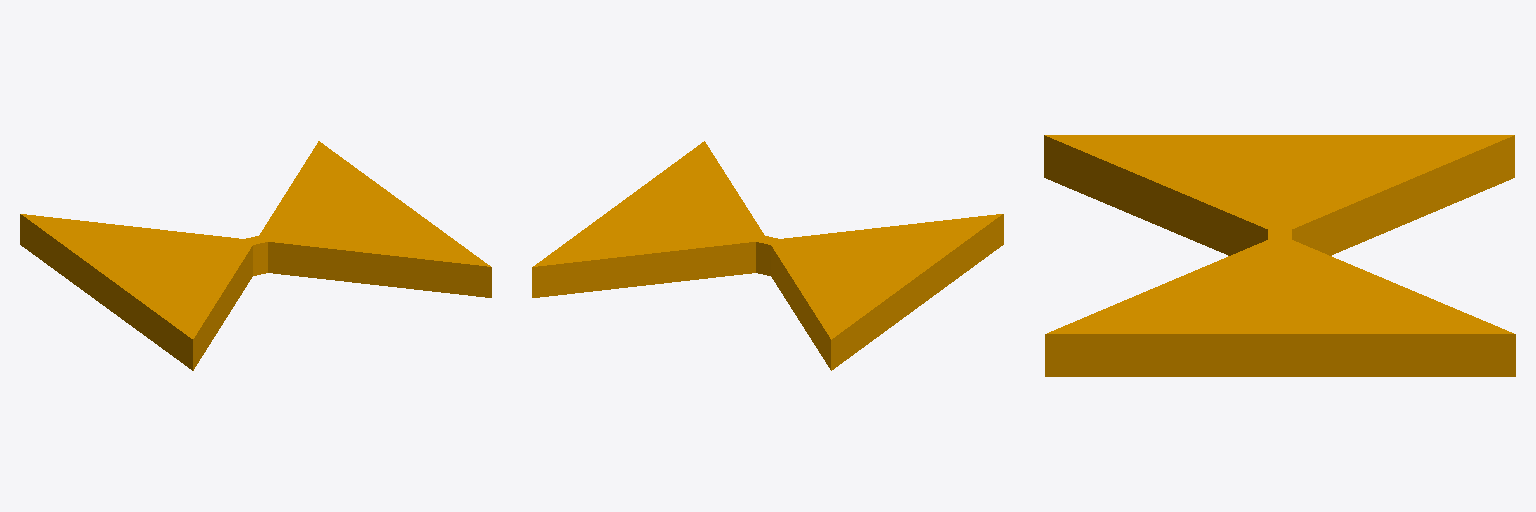
robot.urdf — shape:
<?xml version="1.0" ?>
<robot name="shape">
  <link name="shape">
    <visual>
      <origin rpy="0 0 -1.57" xyz="0 0 0"/>
      <geometry>
        <mesh scale="0.001 0.001 0.001" filename="package://core/stl/triangles.stl"/>
      </geometry>
    </visual>
  </link>
</robot>

--- Facts derived from the render (not from the file) ---
3 views of the same robot in one strip: view 1: azimuth 30°, elevation 25°; view 2: azimuth 150°, elevation 25°; view 3: azimuth 270°, elevation 25° (orthographic).
Model shape with 1 links and 0 joints (none), rooted at shape, posed all joints at 0.
Links seen in each view (by area): view 1: shape; view 2: shape; view 3: shape.
Link boxes in pixels (box(x1,y1,x2,y2)): shape: box(20, 141, 491, 370); shape: box(532, 141, 1003, 370); shape: box(1044, 135, 1515, 376).
Size in the robot's own frame: 0.1001 by 0.1001 by 0.01 metres.
1 mesh visuals loaded from 1 distinct referenced files (1 binary STL).